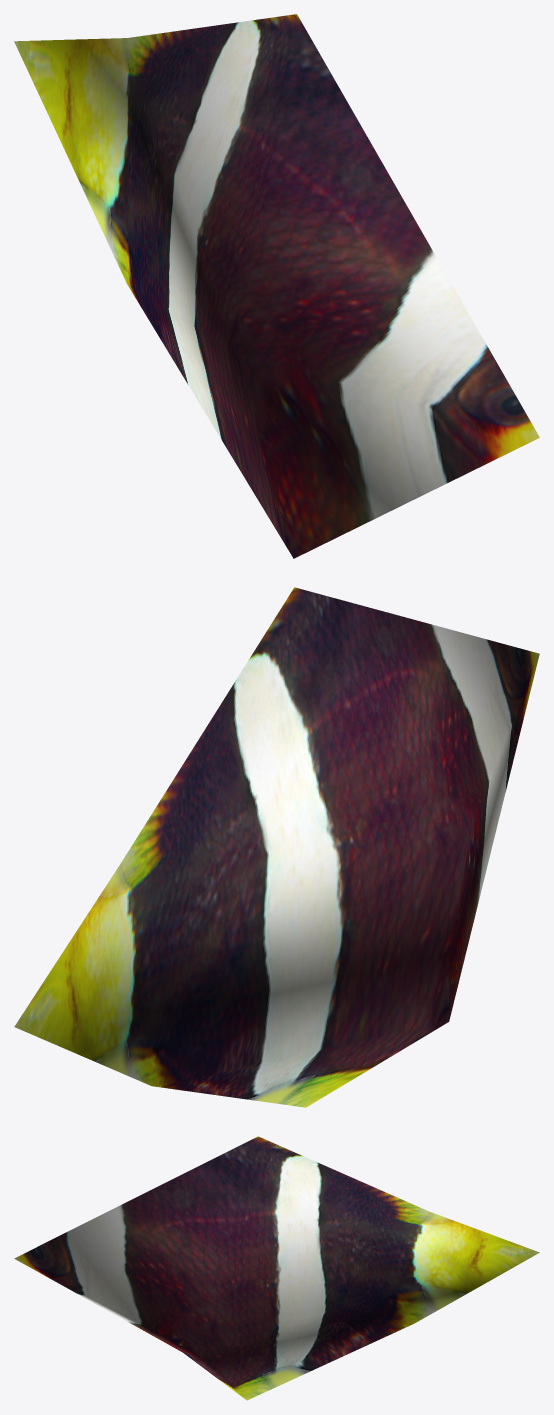
The model's file is TropicalFish11.fbx.
3 renders of one model, top to bottom at view 1: azimuth 30°, elevation 25°; view 2: azimuth 150°, elevation 25°; view 3: azimuth 270°, elevation 25°, orthographic. The views are drawn at different scales.
Visible parts, largest first — view 1: TropicalFish11_Export; view 2: TropicalFish11_Export; view 3: TropicalFish11_Export.
Boxes of the visible parts, x1,y1,x2,y2 form: TropicalFish11_Export: (14, 14, 539, 558); TropicalFish11_Export: (14, 587, 539, 1107); TropicalFish11_Export: (14, 1136, 539, 1400).
Size of the model in its own units: 0.0781 by 0.1682 by 0.3034.
